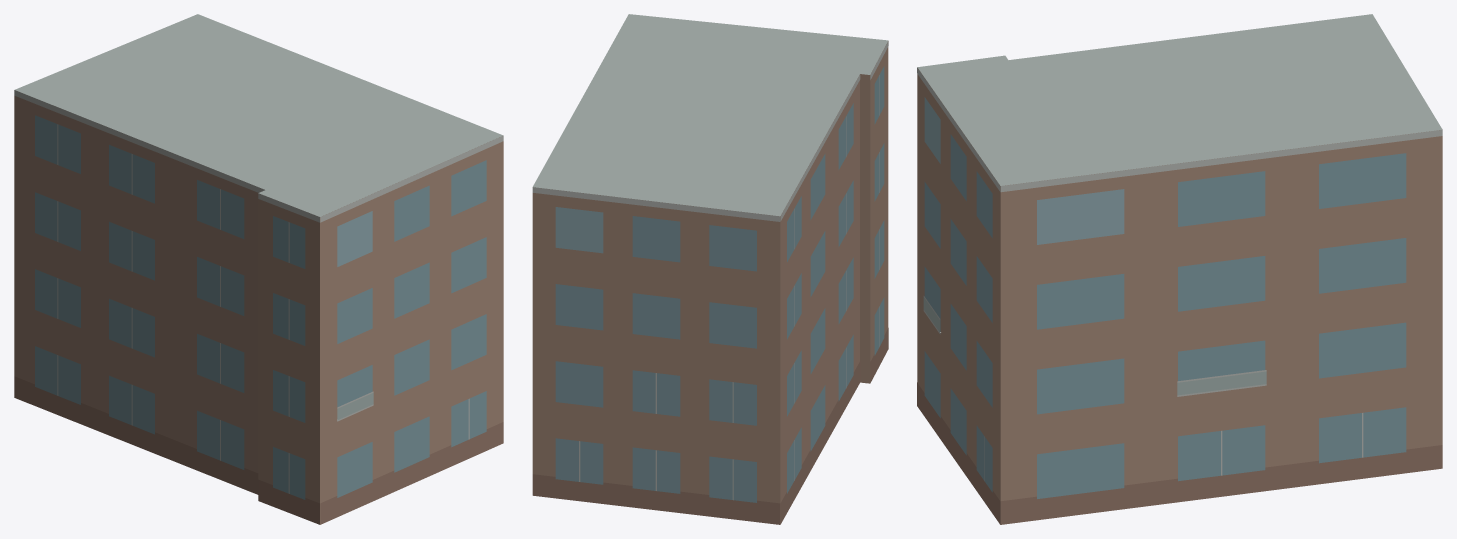
File: survey-upis-32707046.glb
3 views of the same model, side by side, from view 1: azimuth 30°, elevation 25°; view 2: azimuth 150°, elevation 25°; view 3: azimuth 270°, elevation 25° (orthographic). The views are drawn at different scales.
Visible parts, largest first — view 1: survey-upis-32707046.tmp; view 2: survey-upis-32707046.tmp; view 3: survey-upis-32707046.tmp.
Boxes of the visible parts, <box> form: survey-upis-32707046.tmp: <box>14,14,503,524</box>; survey-upis-32707046.tmp: <box>532,14,888,524</box>; survey-upis-32707046.tmp: <box>917,14,1442,524</box>.
Bounding box in the file's own units: 14.38 × 13.2 × 18.56.
